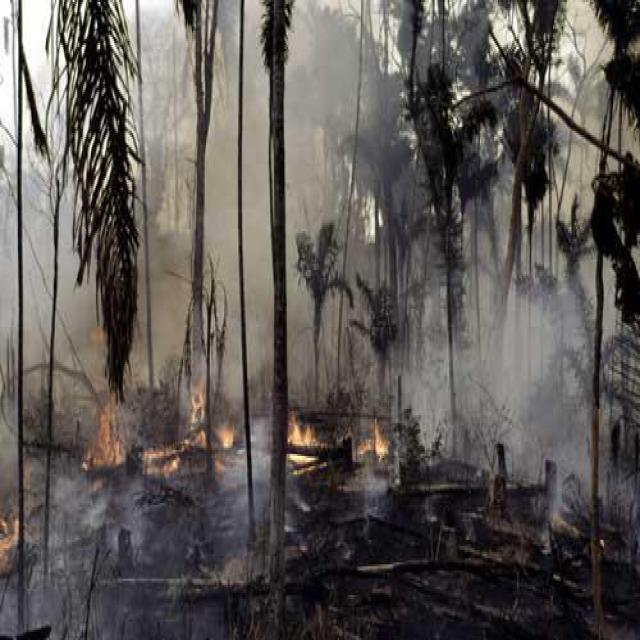fire: (147, 410, 240, 472), (91, 406, 134, 474), (287, 406, 321, 467), (352, 420, 394, 459), (2, 508, 23, 562)
